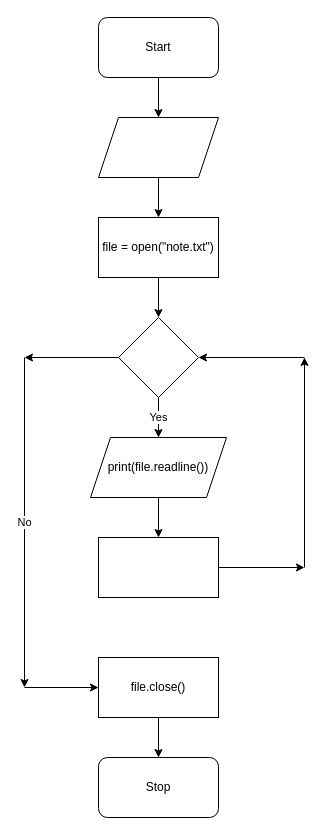
Some shapes in this 330 by 835 pixel diagram are drawn without their labels. The centre of each missing label's shape, as x and y in pixels:
"input int n" belongs at [158,147].
"n -= 1" belongs at [158,567].
"while n > 0" belongs at [158,357].
